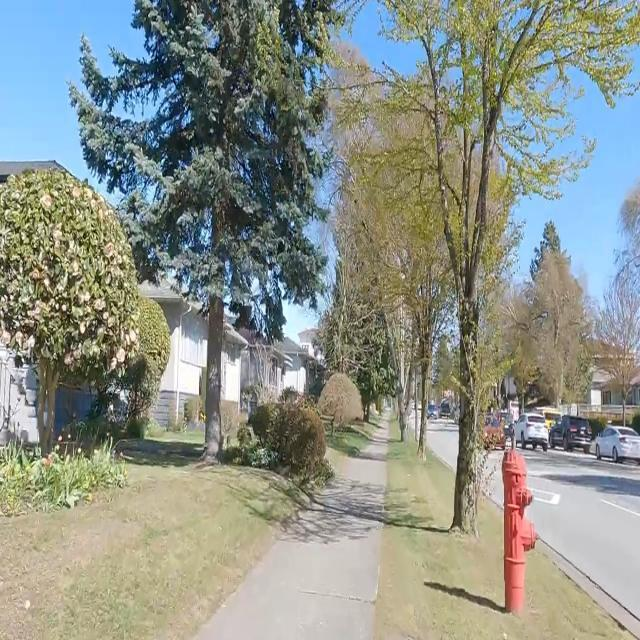Automobile: (594, 425, 639, 462), (550, 415, 592, 450), (514, 412, 548, 452), (481, 428, 501, 450), (427, 401, 436, 418)
Road: (523, 450, 639, 617), (431, 426, 456, 467)
Sidewalk: (193, 430, 386, 639)
